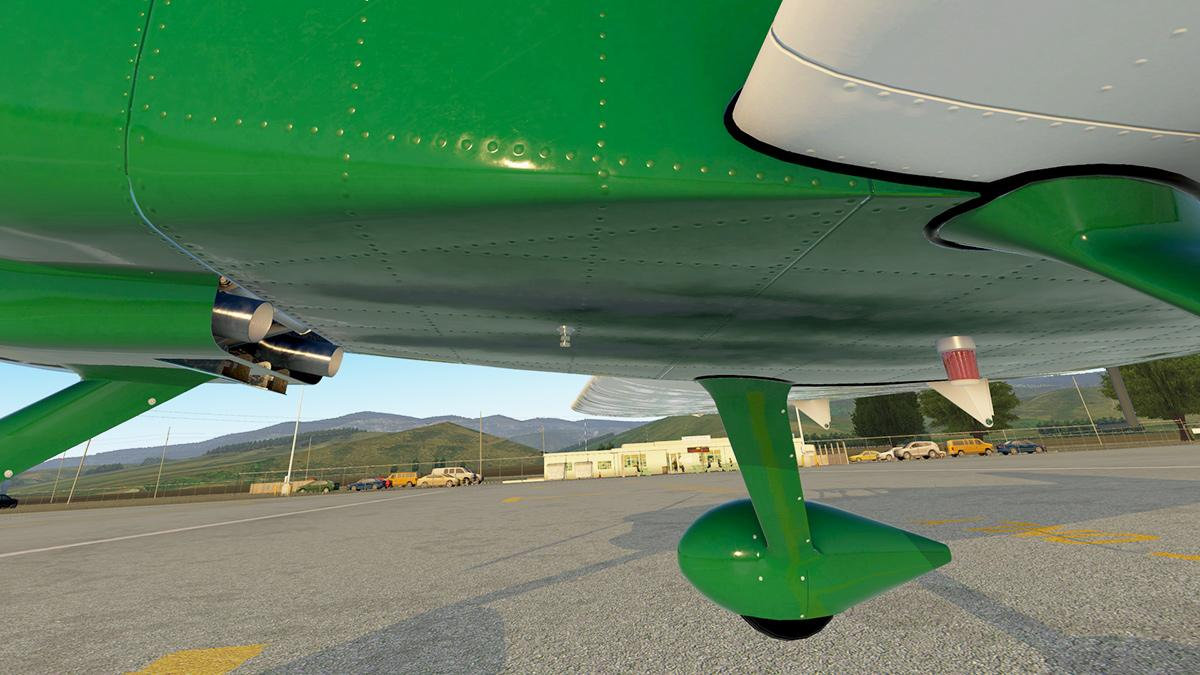rivet: (1168, 26, 1190, 43), (1131, 57, 1151, 71), (2, 467, 18, 483), (143, 394, 160, 408), (512, 143, 527, 158), (1149, 132, 1167, 144), (434, 136, 449, 150), (460, 138, 474, 153), (486, 140, 500, 155), (538, 146, 554, 159), (1096, 84, 1114, 95), (564, 150, 578, 164), (409, 133, 423, 146), (340, 170, 353, 183), (358, 129, 372, 141), (980, 109, 994, 121), (1115, 128, 1130, 139), (1182, 137, 1197, 148), (136, 133, 148, 146), (282, 123, 295, 135), (596, 168, 609, 180), (597, 120, 610, 132), (617, 156, 630, 168), (644, 159, 658, 170), (842, 83, 857, 93), (1048, 121, 1063, 131), (183, 112, 195, 124), (386, 133, 398, 145), (783, 174, 795, 186), (352, 58, 363, 71), (698, 165, 711, 176), (754, 171, 767, 182), (1015, 116, 1030, 125), (341, 189, 352, 201), (146, 73, 158, 84), (233, 117, 244, 129), (309, 125, 321, 136), (341, 151, 352, 163), (356, 35, 367, 47), (347, 105, 358, 117), (335, 127, 346, 139), (596, 139, 608, 150), (671, 162, 683, 173), (727, 168, 739, 179), (810, 178, 822, 189), (139, 103, 152, 113), (878, 90, 891, 100), (912, 98, 925, 108), (947, 104, 960, 114), (151, 46, 162, 57), (350, 82, 361, 93), (258, 120, 270, 130), (358, 16, 370, 26), (598, 74, 608, 86), (157, 22, 168, 32), (159, 110, 169, 121), (209, 115, 219, 126), (592, 153, 602, 164), (598, 10, 608, 21), (597, 98, 608, 108), (899, 165, 911, 174), (923, 203, 936, 211), (118, 107, 128, 117), (120, 89, 130, 99), (124, 72, 134, 82), (126, 57, 136, 67), (130, 41, 140, 51), (599, 31, 609, 41), (526, 237, 537, 246), (811, 210, 822, 219), (847, 180, 858, 189), (163, 1, 175, 9), (874, 269, 886, 277), (896, 205, 908, 213), (870, 207, 882, 215), (833, 209, 845, 217), (785, 213, 797, 221), (669, 224, 681, 232), (845, 199, 858, 206), (138, 10, 147, 20), (116, 124, 125, 134), (601, 184, 610, 194), (617, 257, 628, 265), (821, 219, 832, 227), (738, 218, 749, 226), (692, 222, 703, 230), (804, 148, 815, 156), (418, 248, 430, 255), (626, 229, 638, 236), (1084, 126, 1096, 133), (135, 26, 144, 35), (599, 54, 608, 63), (997, 273, 1007, 281), (649, 226, 659, 234), (969, 173, 979, 181), (935, 170, 945, 178), (1024, 263, 1035, 270), (715, 220, 726, 227), (547, 236, 556, 244), (793, 247, 802, 255), (596, 215, 605, 223), (763, 215, 772, 223), (799, 574, 807, 583), (778, 408, 787, 416), (482, 251, 492, 258), (452, 243, 462, 250), (566, 234, 576, 241), (1014, 275, 1024, 282), (1098, 278, 1108, 285), (1038, 257, 1048, 264), (927, 271, 937, 278), (782, 255, 792, 262), (607, 231, 617, 238), (868, 161, 878, 168), (752, 532, 759, 542), (507, 239, 518, 245), (587, 231, 595, 239), (599, 204, 607, 212), (1080, 234, 1088, 242), (799, 612, 807, 620), (757, 575, 765, 583), (788, 452, 796, 460), (348, 210, 357, 217), (463, 249, 472, 256), (561, 255, 570, 262), (910, 271, 919, 278), (600, 257, 609, 264), (693, 261, 702, 268), (836, 155, 845, 162), (471, 243, 481, 249), (980, 274, 990, 280), (891, 271, 901, 277), (115, 144, 122, 152), (962, 273, 970, 280), (945, 271, 953, 278), (594, 226, 602, 233), (638, 259, 646, 266), (767, 264, 775, 271), (749, 265, 757, 272), (731, 263, 739, 270), (712, 262, 720, 269), (591, 237, 602, 242), (768, 270, 777, 276), (400, 249, 409, 255), (502, 252, 511, 258), (522, 253, 531, 259), (489, 241, 498, 247), (973, 286, 982, 292), (985, 281, 994, 287), (1031, 276, 1040, 282), (591, 245, 600, 251), (856, 269, 865, 275), (821, 268, 830, 274), (801, 240, 810, 246), (436, 246, 444, 252), (1049, 277, 1057, 283), (1065, 277, 1073, 283), (589, 253, 597, 259), (803, 266, 811, 272), (839, 269, 847, 275), (776, 263, 784, 269), (812, 230, 820, 236), (675, 261, 683, 267), (1012, 270, 1021, 275), (444, 249, 451, 255), (581, 255, 587, 262), (1082, 278, 1089, 284), (656, 259, 663, 265), (805, 538, 811, 545), (356, 224, 364, 229), (542, 254, 550, 259), (796, 496, 802, 502), (588, 261, 595, 266), (762, 277, 769, 282), (792, 265, 797, 272), (587, 268, 594, 272)
